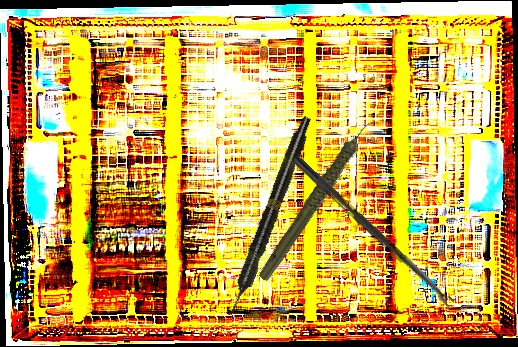Handpiece: (230, 116, 408, 284), (222, 113, 316, 320)
Surgical Spoon: (291, 155, 455, 309)
